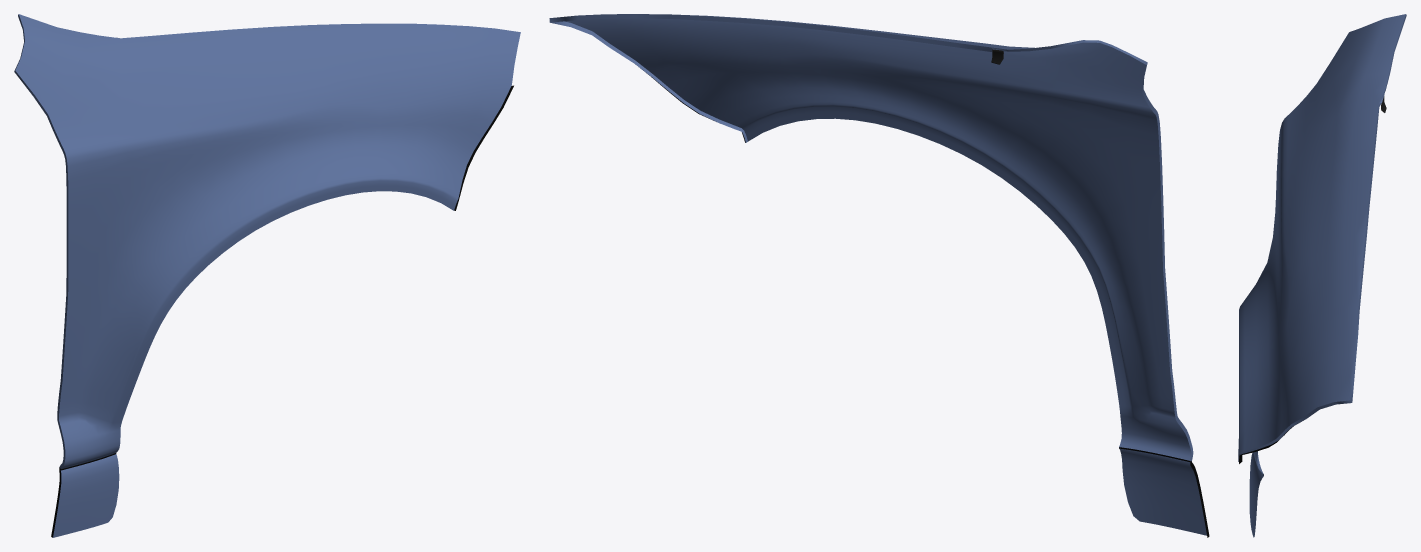
The picture shows the model from 3 angles, left to right: view 1: azimuth 30°, elevation 25°; view 2: azimuth 150°, elevation 25°; view 3: azimuth 270°, elevation 25°; orthographic projection. The views are drawn at different scales.
Parts seen in each view (by area): view 1: U236_17_141B_R_U236_17_141B_R_1_DaS, U236_17_141B_R_U236_17_141B_R_1_DaS_E; view 2: U236_17_141B_R_U236_17_141B_R_1_DaS, U236_17_141B_R_U236_17_141B_R_1_DaS_E; view 3: U236_17_141B_R_U236_17_141B_R_1_DaS, U236_17_141B_R_U236_17_141B_R_1_DaS_E.
Part boxes in pixels (x1,y1,x2,y2): U236_17_141B_R_U236_17_141B_R_1_DaS: (15, 14, 520, 537); U236_17_141B_R_U236_17_141B_R_1_DaS_E: (14, 14, 117, 468); U236_17_141B_R_U236_17_141B_R_1_DaS: (565, 14, 1206, 535); U236_17_141B_R_U236_17_141B_R_1_DaS_E: (549, 14, 1193, 461); U236_17_141B_R_U236_17_141B_R_1_DaS: (1238, 14, 1405, 537); U236_17_141B_R_U236_17_141B_R_1_DaS_E: (1238, 14, 1406, 461).
Size of the model in its own units: 99.03 by 85.36 by 25.42.
